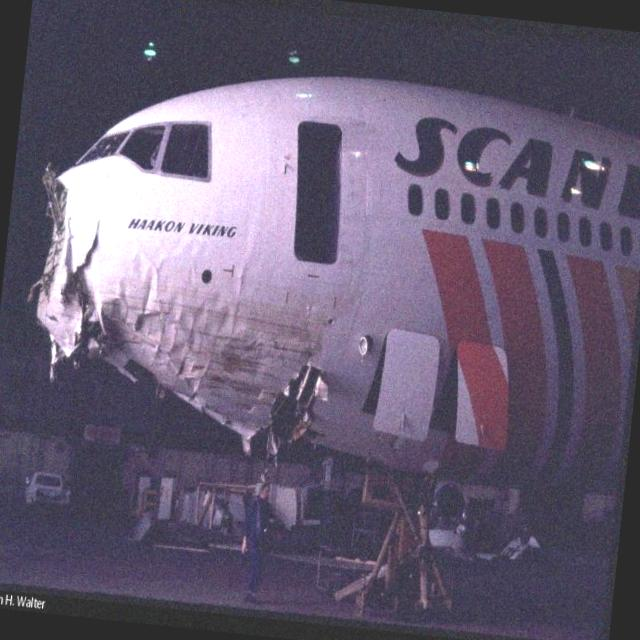crack: (66, 218, 104, 298), (296, 303, 322, 366)
dent: (178, 298, 235, 352), (136, 262, 168, 316), (116, 280, 129, 296)
